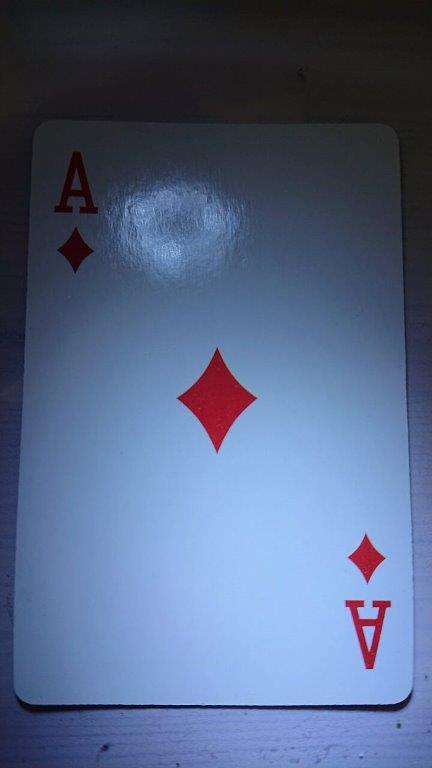AD: (11, 116, 417, 711)
